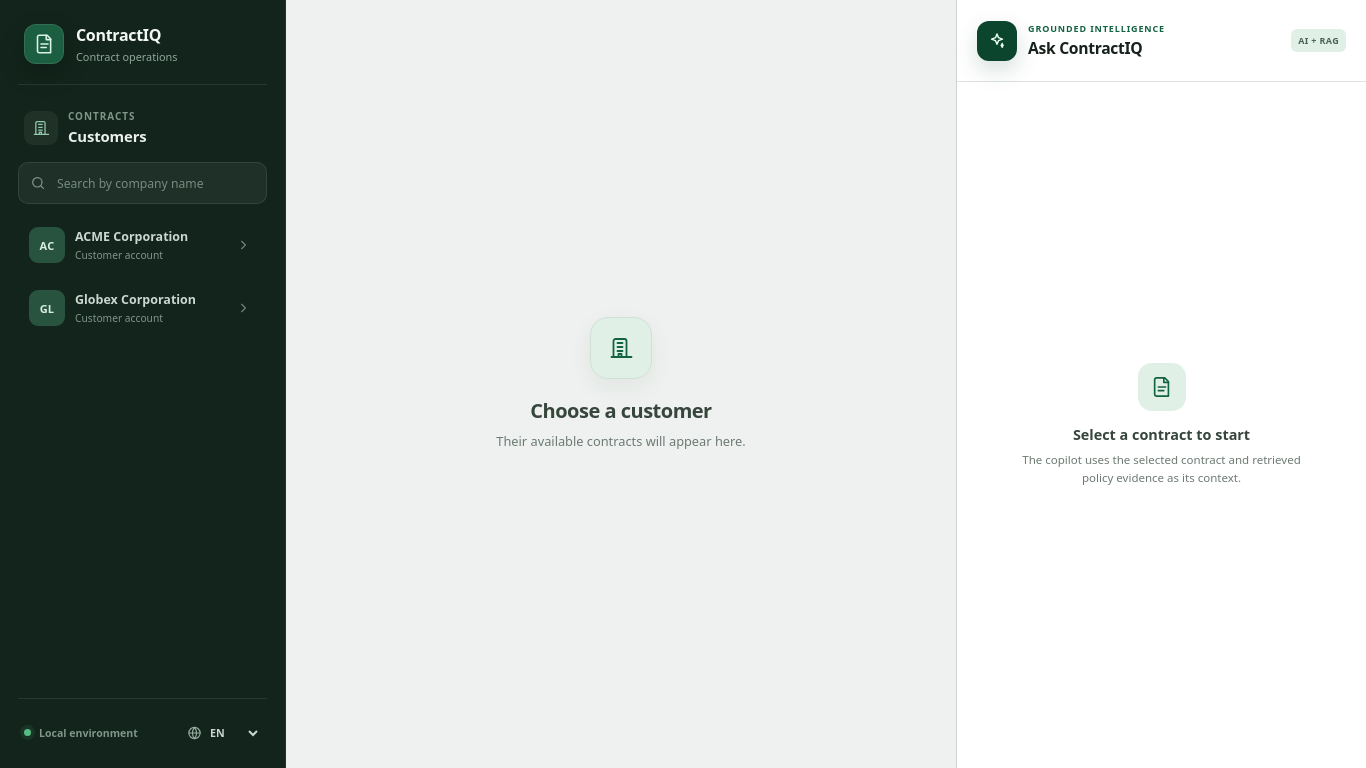
App › filters the customer workspace by company name
The width and height of the screenshot is (1366, 768).
Expected: the button "AC ACME Corporation Customer account" is shown, left=18, top=216, right=265, bottom=274
Expected: the button "GL Globex Corporation Customer account" is shown, left=18, top=279, right=265, bottom=337
Type "globex" into the search field at x=142, y=183, box left=18, top=162, right=267, bottom=204
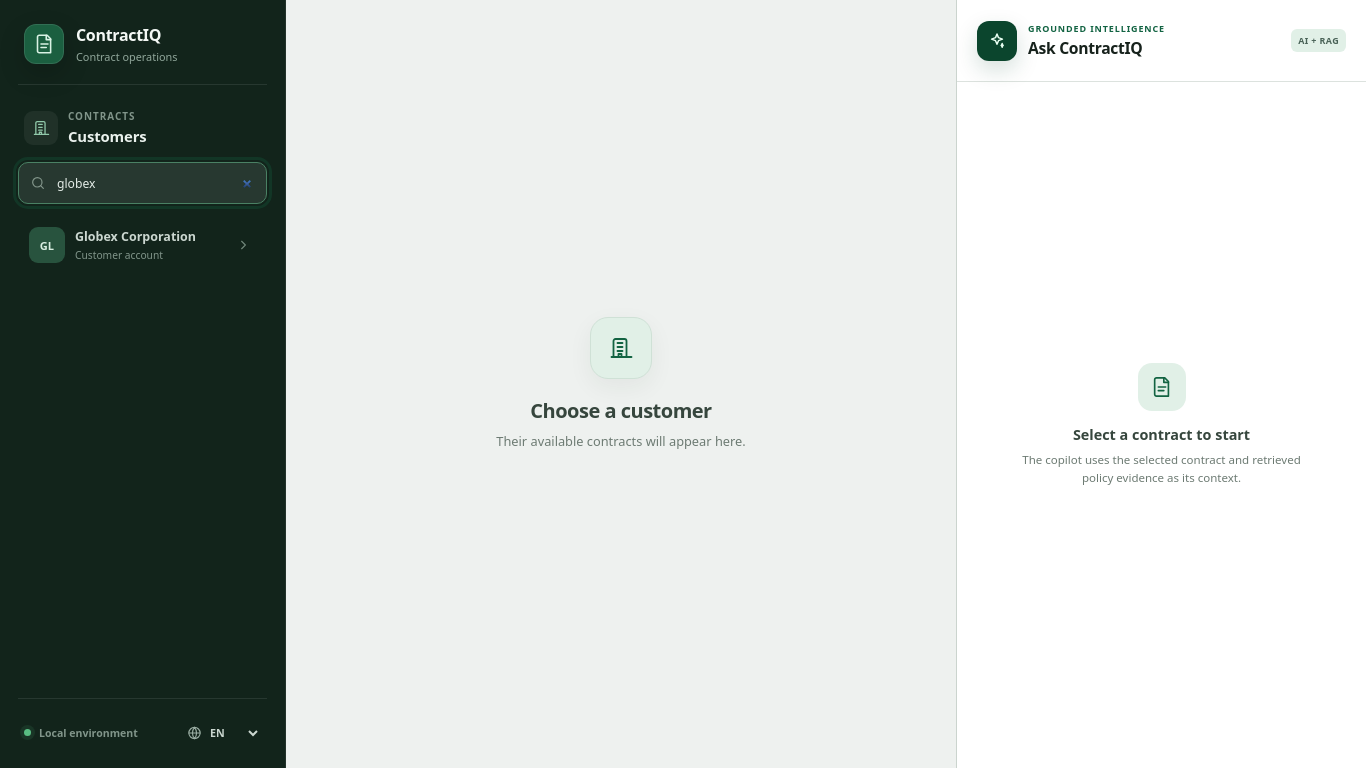
Expected: the button "GL Globex Corporation Customer account" is shown, left=18, top=216, right=265, bottom=274
Now the button "ACME Corporation" is gone
